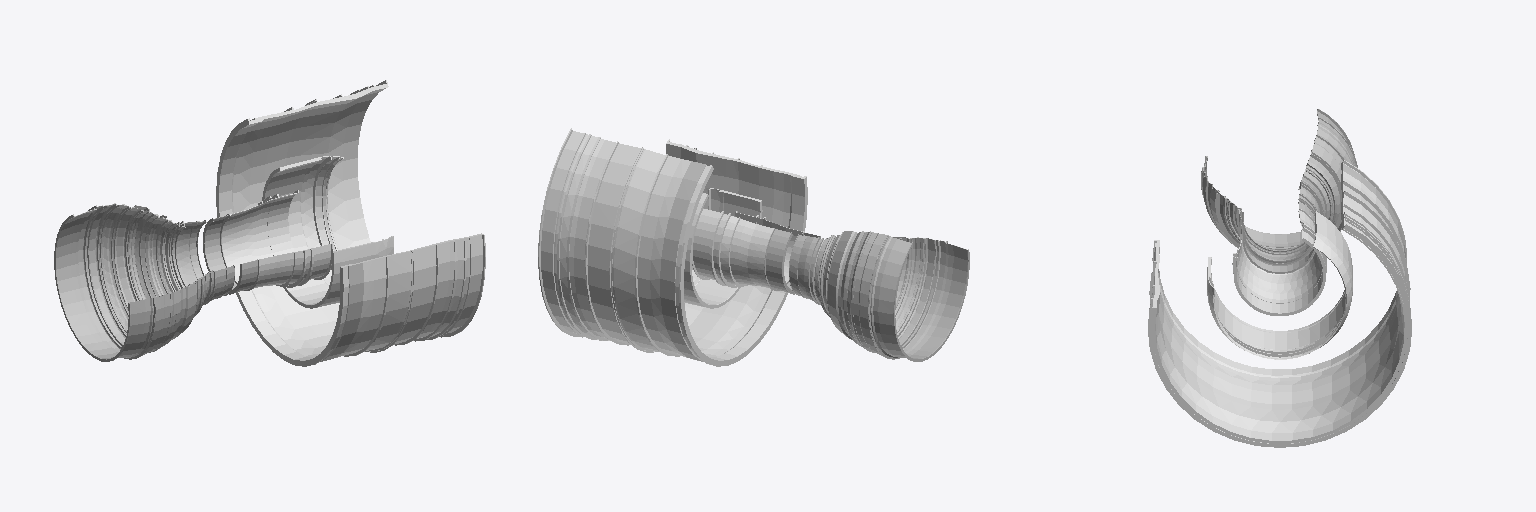
File: casing.obj
3 views of the same model, side by side, from view 1: azimuth 30°, elevation 25°; view 2: azimuth 150°, elevation 25°; view 3: azimuth 270°, elevation 25° (orthographic).
Parts seen in each view (by area): view 1: casing, casing-1; view 2: casing, casing-1; view 3: casing, casing-1.
Part boxes in pixels (left/top/right/bottom): casing: left=216, top=80, right=485, bottom=366; casing-1: left=54, top=203, right=363, bottom=361; casing: left=538, top=128, right=807, bottom=366; casing-1: left=660, top=161, right=969, bottom=361; casing: left=1148, top=160, right=1411, bottom=447; casing-1: left=1154, top=109, right=1405, bottom=273.
Bounding box in the file's own units: 0.0038 × 0.0025 × 0.0027.